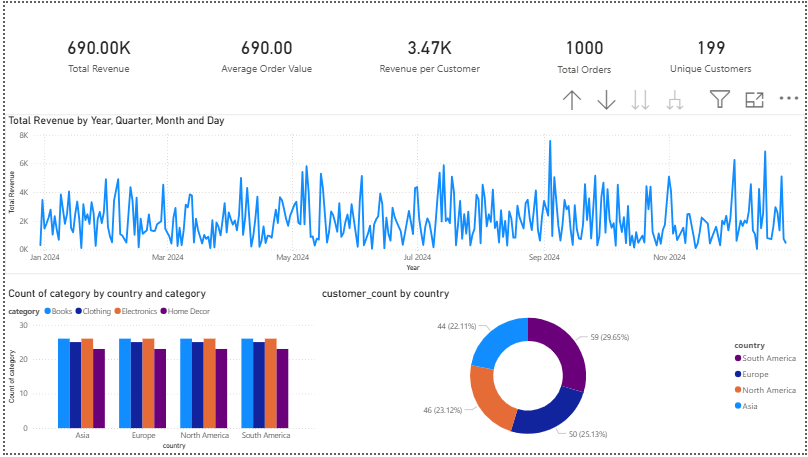

What the dashboard file says about the page in this screenshot:
{"tool":"powerbi","page":{"name":"Page 1","canvas":[1280,720],"ordinal":0},"visuals":[{"type":"card","fields":{"Values":["public customers.Total Orders"]},"box":[815.1,9.6,222.3,142.7],"z":0},{"type":"actionButton","box":[0,0,100,40],"z":1000},{"type":"card","fields":{"Values":["public customers.Revenue per Customer"]},"box":[557.1,0,242.9,160.5],"z":2000},{"type":"card","fields":{"Values":["public customers.Total Revenue"]},"box":[0,0,300.5,160.5],"z":3000},{"type":"card","fields":{"Values":["public customers.Unique Customers"]},"box":[1007.2,0,242.9,160.5],"z":4000},{"type":"card","fields":{"Values":["public customers.Average Order Value"]},"box":[319.7,0,197.6,160.5],"z":5000},{"type":"lineChart","fields":{"Y":["public customers.Total Revenue"],"Category":["public transactions.transaction_date.Variation.Date Hierarchy.Year","public transactions.transaction_date.Variation.Date Hierarchy.Quarter","public transactions.transaction_date.Variation.Date Hierarchy.Month","public transactions.transaction_date.Variation.Date Hierarchy.Day"]},"box":[0,177,1280.3,256.6],"z":6000},{"type":"clusteredColumnChart","fields":{"Y":["CountNonNull(public products.category)"],"Category":["public customers.country"],"Series":["public products.category"]},"box":[0,454.2,500.9,266.2],"z":6001},{"type":"donutChart","fields":{"Category":["public customers.country"],"Y":["public customers.customer_count"]},"box":[501,454,779,266],"z":6002}]}

Visuals, with their boxes in screenshot pixels (x1, y1, x2, y2), scaled from the page's 1280x720 canvas onto the 808x457 screenshot:
card - public customers.Total Orders: [left=515, top=6, right=655, bottom=97]
actionButton: [left=0, top=0, right=63, bottom=25]
card - public customers.Revenue per Customer: [left=352, top=0, right=505, bottom=102]
card - public customers.Total Revenue: [left=0, top=0, right=190, bottom=102]
card - public customers.Unique Customers: [left=636, top=0, right=789, bottom=102]
card - public customers.Average Order Value: [left=202, top=0, right=327, bottom=102]
lineChart - public customers.Total Revenue x public transactions.transaction_date.Variation.Date Hierarchy.Year: [left=0, top=112, right=807, bottom=275]
clusteredColumnChart - CountNonNull(public products.category) x public customers.country: [left=0, top=288, right=316, bottom=456]
donutChart - public customers.country x public customers.customer_count: [left=316, top=288, right=807, bottom=456]
